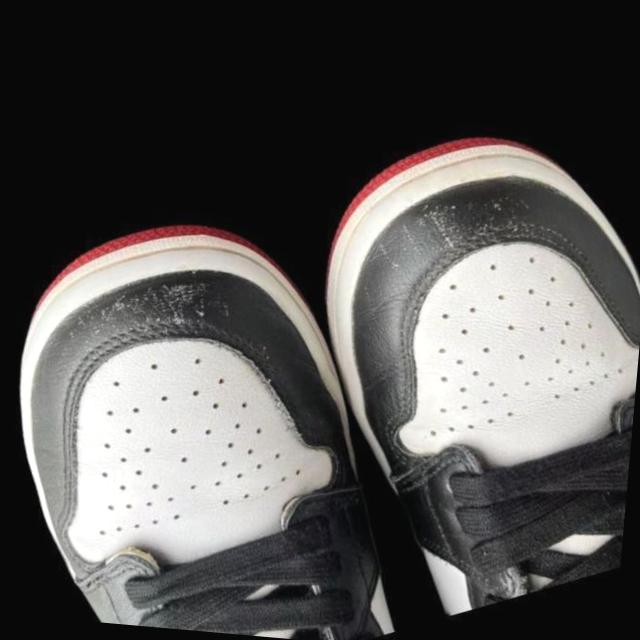nike_original_jordan: (237, 71, 640, 640), (0, 165, 447, 640)
